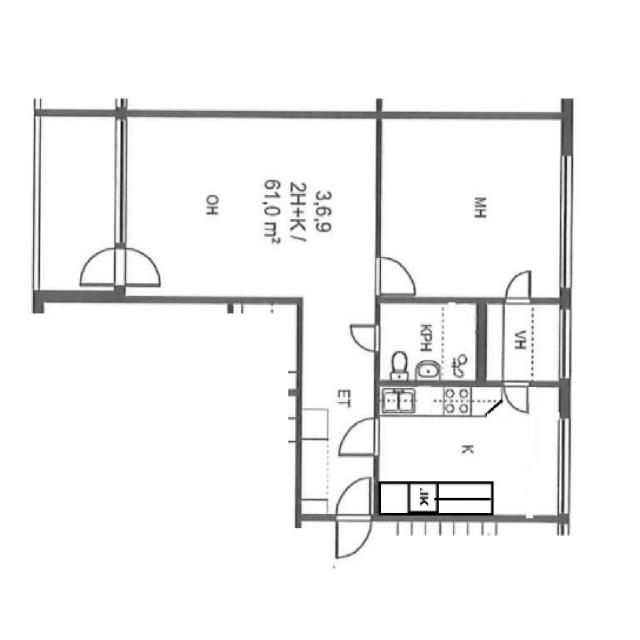door: (329, 472, 374, 564), (72, 244, 159, 285), (334, 413, 384, 460), (370, 251, 419, 297), (116, 245, 162, 287), (499, 266, 536, 306), (346, 319, 385, 355), (502, 379, 532, 416)
window: (550, 149, 582, 295), (109, 114, 132, 249), (556, 411, 570, 517), (557, 306, 573, 382)
zone: (118, 115, 383, 301), (377, 116, 568, 300), (377, 384, 563, 518), (377, 300, 480, 384), (482, 298, 568, 384)
